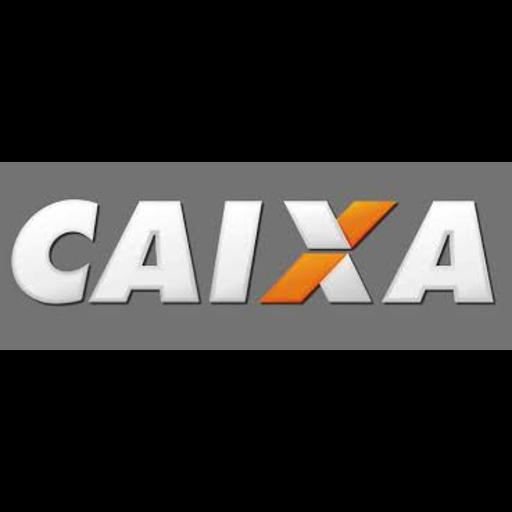Caixa Economica Federal: (0, 162, 512, 350)
